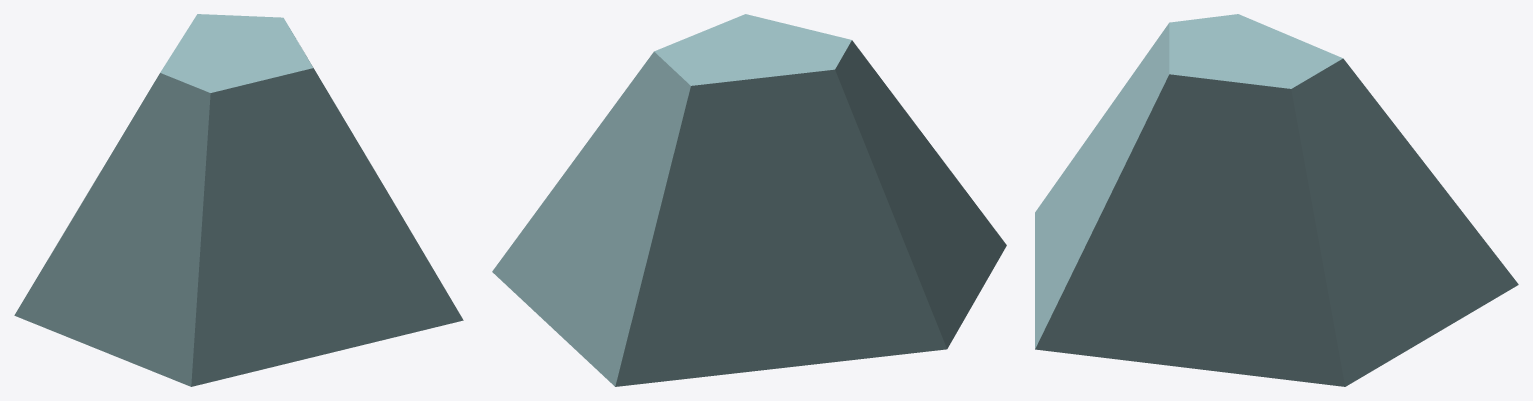
Rendered from stone_small1.obj.
3 renders of one model, left to right at view 1: azimuth 30°, elevation 25°; view 2: azimuth 150°, elevation 25°; view 3: azimuth 270°, elevation 25°, orthographic. The views are drawn at different scales.
Visible parts, largest first — view 1: stone_small1; view 2: stone_small1; view 3: stone_small1.
Boxes of the visible parts, x1=… form: stone_small1: x1=14, y1=14, x2=463, y2=386; stone_small1: x1=492, y1=14, x2=1006, y2=386; stone_small1: x1=1035, y1=14, x2=1518, y2=386.
Size of the model in its own units: 3.61 by 1.91 by 3.61.
